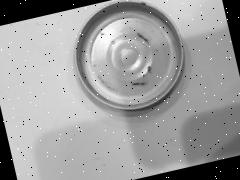metal: (47, 0, 223, 156)
